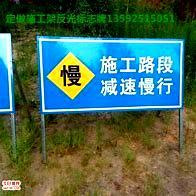sign: (39, 38, 182, 111)
